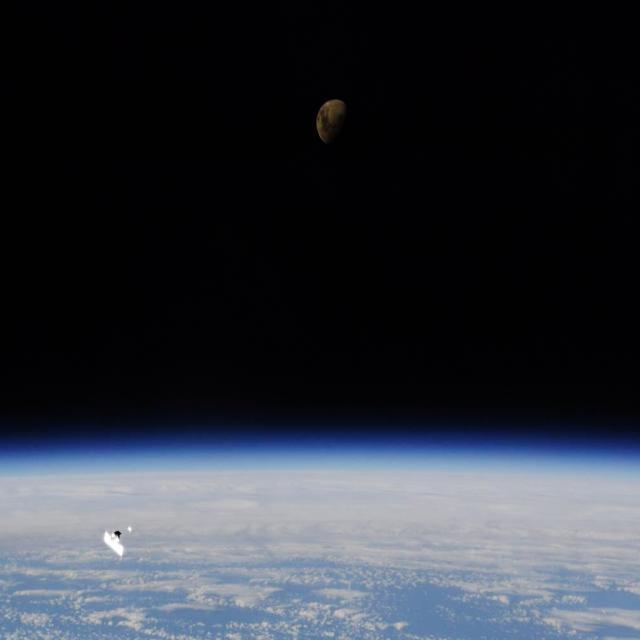satellite: (96, 523, 150, 567)
